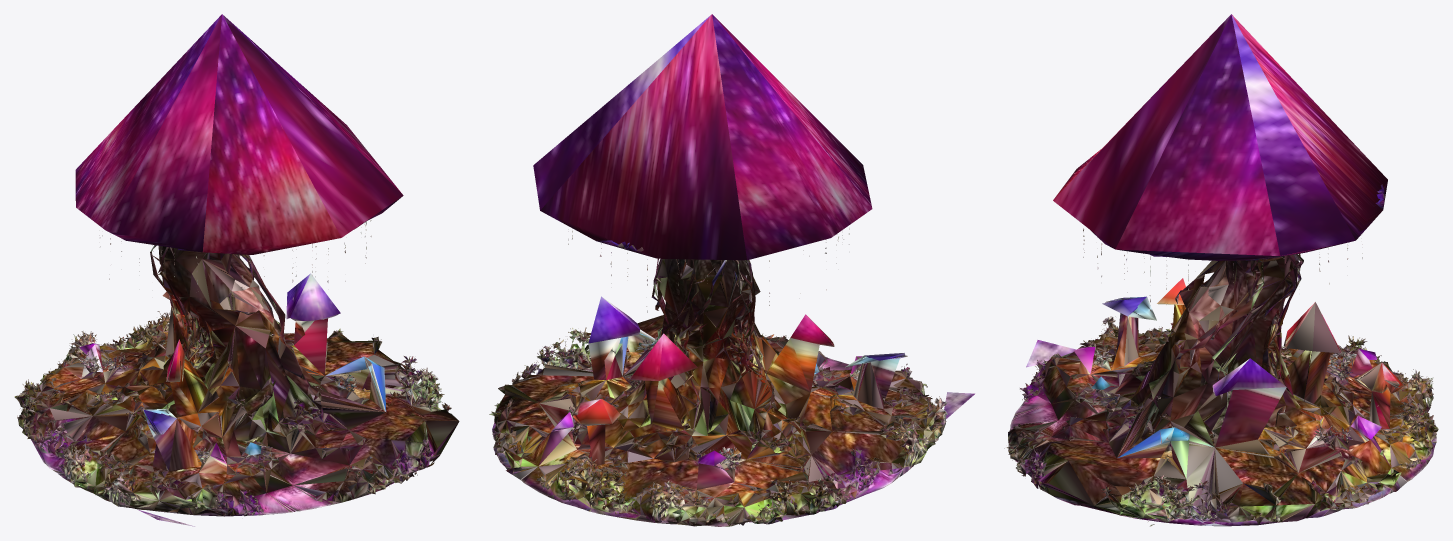
Rendered from Luminescent_Mushroom_.glb.
The picture shows the model from 3 angles, left to right: view 1: azimuth 30°, elevation 25°; view 2: azimuth 150°, elevation 25°; view 3: azimuth 270°, elevation 25°; orthographic projection. The views are drawn at different scales.
Visible parts, largest first — view 1: Luminescent_Mushroom_; view 2: Luminescent_Mushroom_; view 3: Luminescent_Mushroom_.
Part boxes in pixels (bbox=[...]): Luminescent_Mushroom_: bbox=[14, 14, 459, 526]; Luminescent_Mushroom_: bbox=[489, 14, 974, 526]; Luminescent_Mushroom_: bbox=[1004, 14, 1438, 526].
Bounding box in the file's own units: 1.89 × 2 × 1.88.
Materials: 1 (1 with a texture image).
